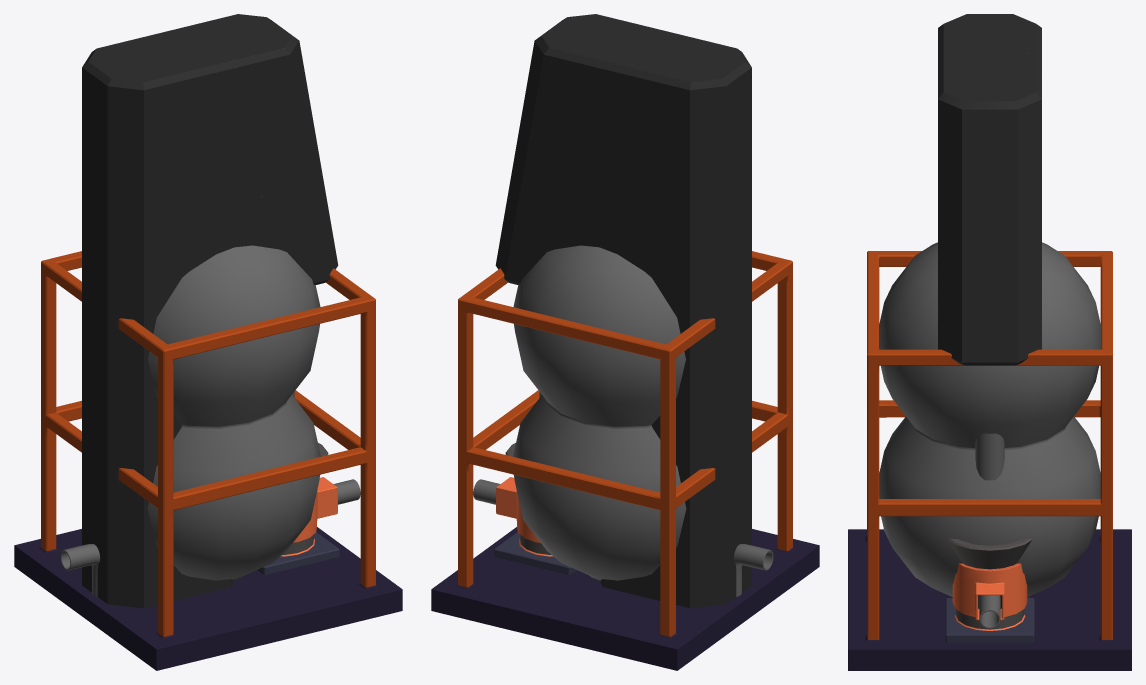
The model's file is oil-rig-v4 (1).fbx.
3 renders of one model, left to right at view 1: azimuth 30°, elevation 25°; view 2: azimuth 150°, elevation 25°; view 3: azimuth 270°, elevation 25°, orthographic.
Visible parts, largest first — view 1: storage, MainPump, Base Pump, pipe.002; view 2: storage, MainPump, Base Pump, pipe.002; view 3: storage, MainPump, Base Pump, pump, pipe.
Boxes of the visible parts, left/top/right/bottom form: storage: left=14, top=245, right=402, bottom=670; MainPump: left=82, top=14, right=338, bottom=608; Base Pump: left=257, top=443, right=339, bottom=574; pipe.002: left=60, top=544, right=100, bottom=596; storage: left=431, top=245, right=819, bottom=670; MainPump: left=495, top=14, right=751, bottom=608; Base Pump: left=494, top=443, right=576, bottom=574; pipe.002: left=733, top=544, right=773, bottom=596; storage: left=848, top=242, right=1131, bottom=670; MainPump: left=938, top=14, right=1041, bottom=365; Base Pump: left=945, top=538, right=1034, bottom=642; pump: left=975, top=433, right=1004, bottom=480; pipe: left=979, top=595, right=1000, bottom=628.
Bounding box in the file's own units: 2277 × 4131 × 1935.
6 materials, 2 textured.
